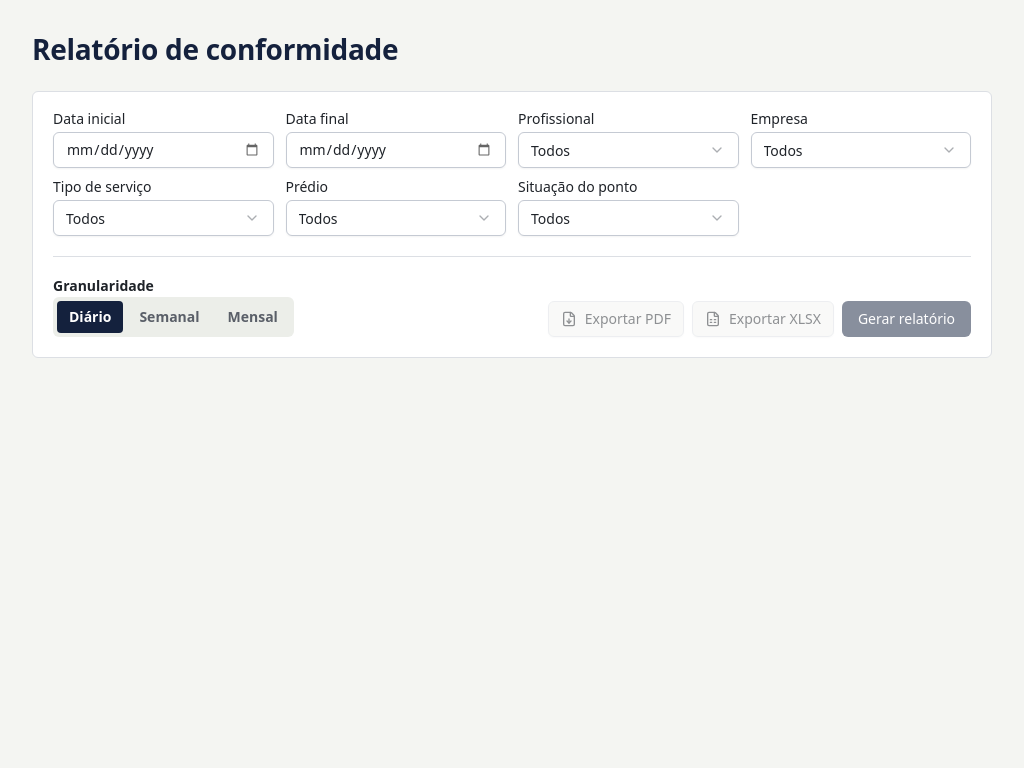
Scenario: ReportsPage › filters by company and by point outcome, with the API's pt-BR labels
Type "2026-08-01" into the date field labelled "Data inicial". click: x=163, y=150
box: [53,132,274,168]
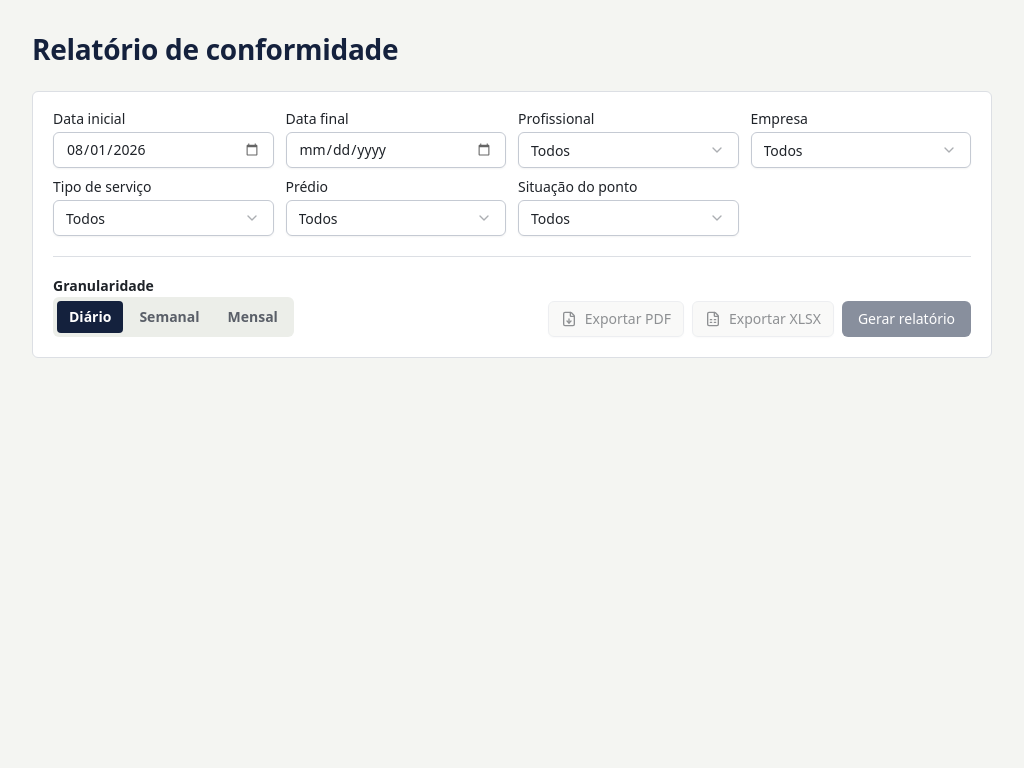
Type "2026-08-02" into the date field labelled "Data final". click: x=396, y=150
box: [286,132,506,168]
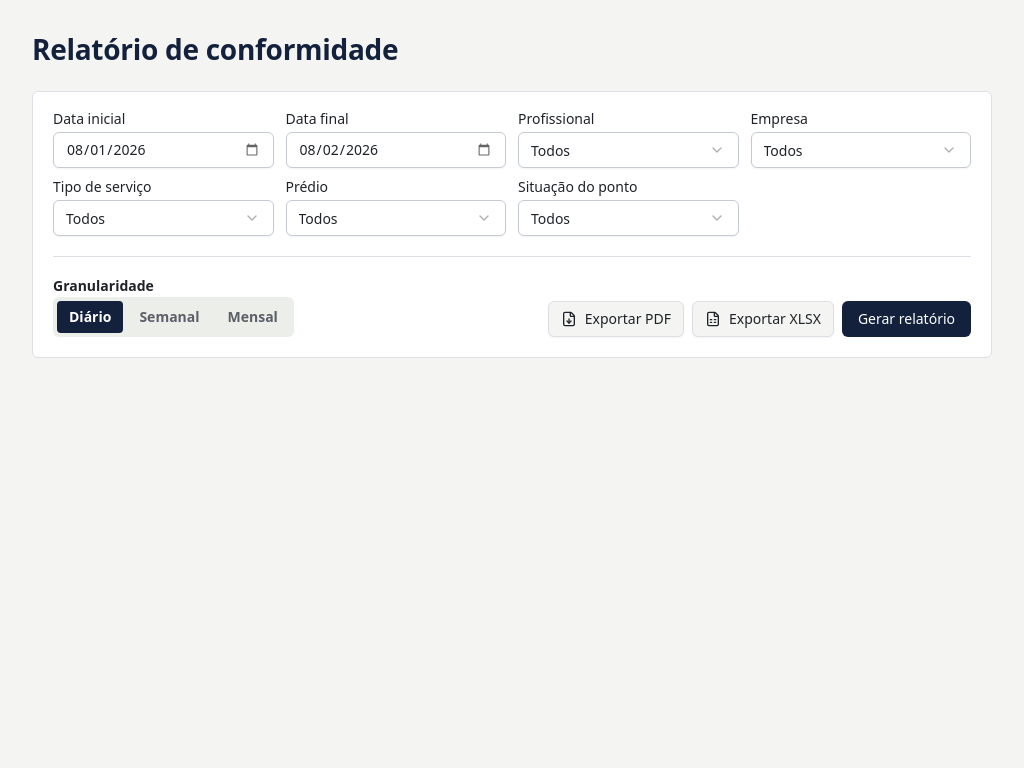
Select "Limpa Tudo" in the dropdown labelled "Empresa". click: x=861, y=150
box: [750,132,971,168]
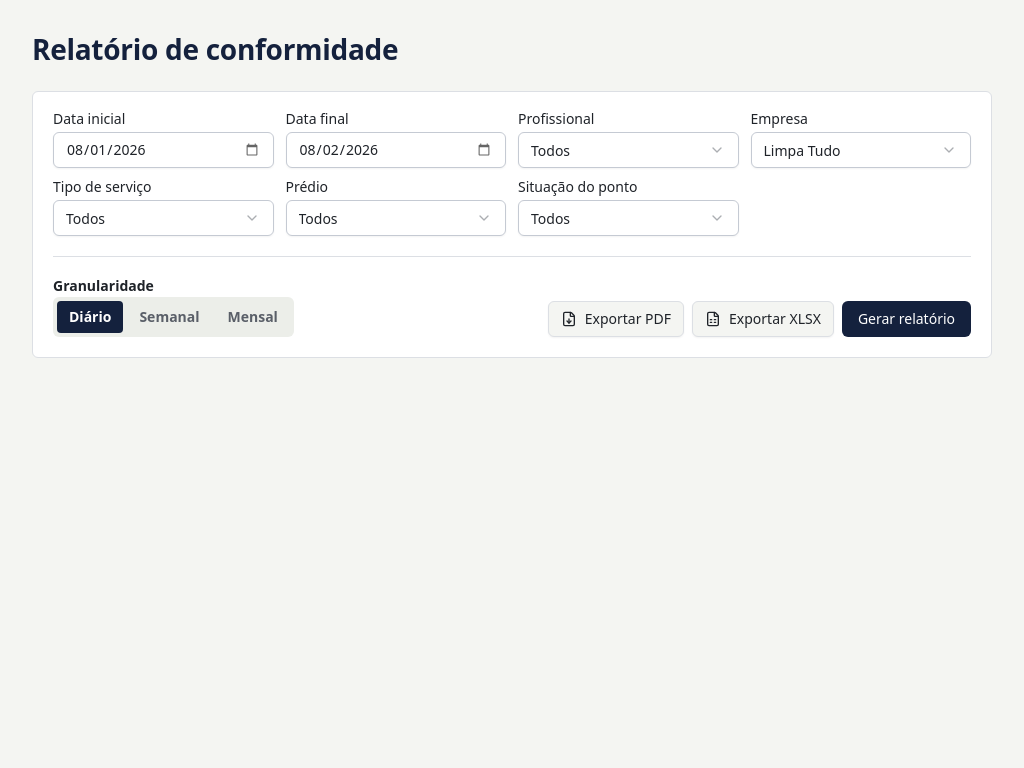
Select "Feito por recurso" in the dropdown labelled "Situação do ponto". click: x=628, y=218
box: [518,200,738,236]
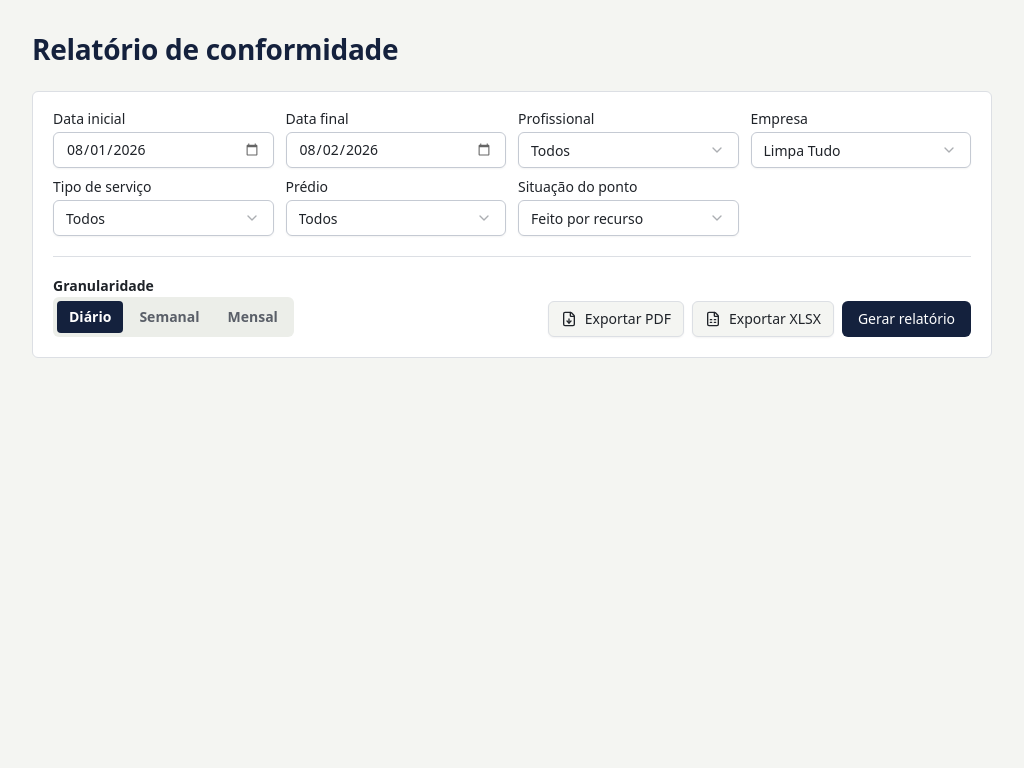
Click the button "Gerar relatório". click: x=906, y=319
box: [842,301,971,337]
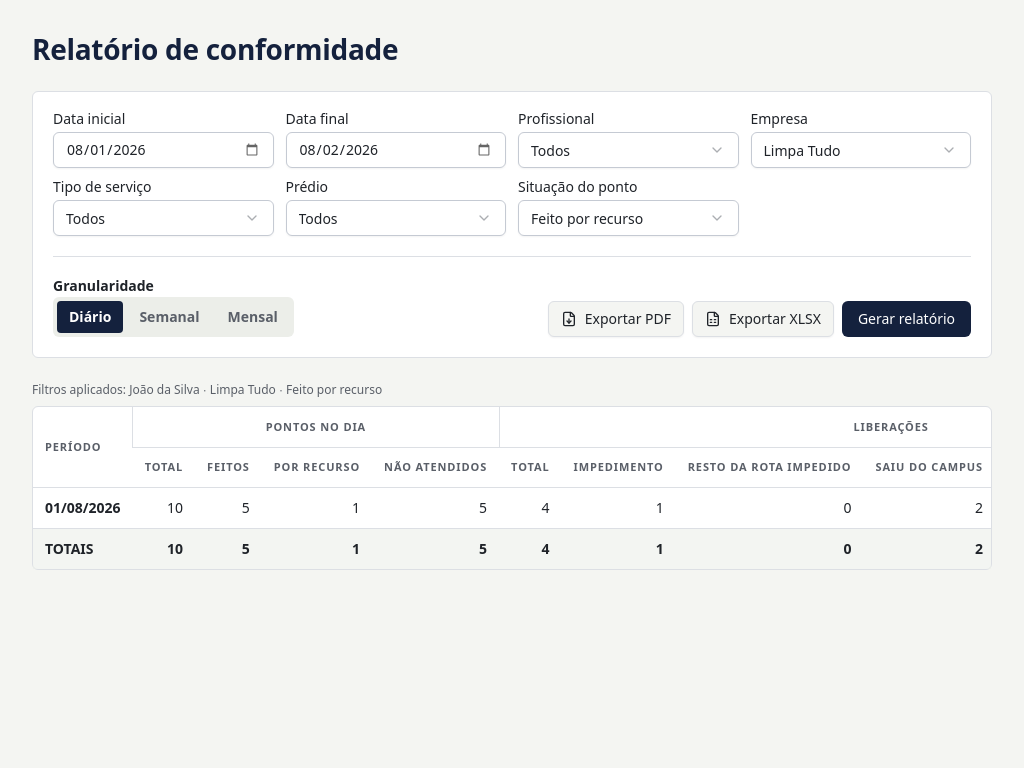
Expected: the text "João da Silva · Limpa Tudo · Feito por recurso" is shown, [129,381,382,398]
